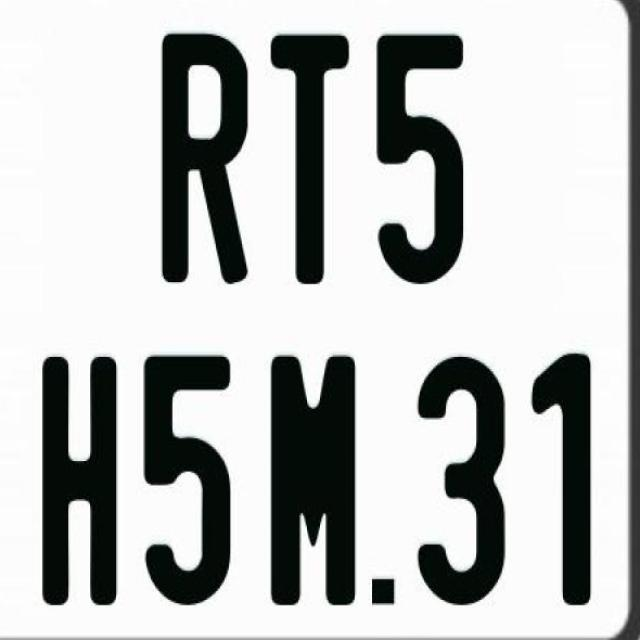license-plate: (1, 0, 628, 640)
